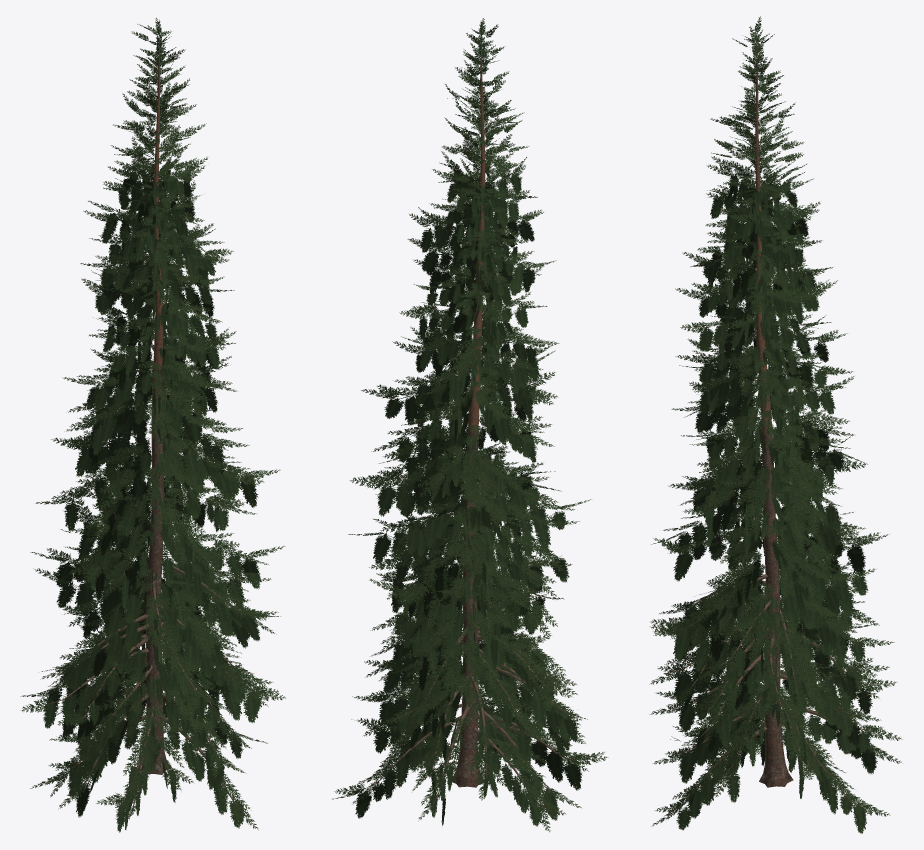
File: spruce_c_LOD0.fbx
3 renders of one model, left to right at view 1: azimuth 30°, elevation 25°; view 2: azimuth 150°, elevation 25°; view 3: azimuth 270°, elevation 25°, orthographic.
Visible parts, largest first — view 1: Spruce_C_LOD0_Foliage, Spruce_C_LOD0_Bark; view 2: Spruce_C_LOD0_Foliage, Spruce_C_LOD0_Bark; view 3: Spruce_C_LOD0_Foliage, Spruce_C_LOD0_Bark.
Part boxes in pixels (<box>): Spruce_C_LOD0_Foliage: <box>20,18,285,832</box>; Spruce_C_LOD0_Bark: <box>44,19,262,819</box>; Spruce_C_LOD0_Foliage: <box>332,18,608,832</box>; Spruce_C_LOD0_Bark: <box>364,19,585,813</box>; Spruce_C_LOD0_Foliage: <box>649,16,902,833</box>; Spruce_C_LOD0_Bark: <box>664,26,886,816</box>.
Size of the model in its own units: 9.65 by 29.48 by 9.03.
2 materials, 2 textured.
